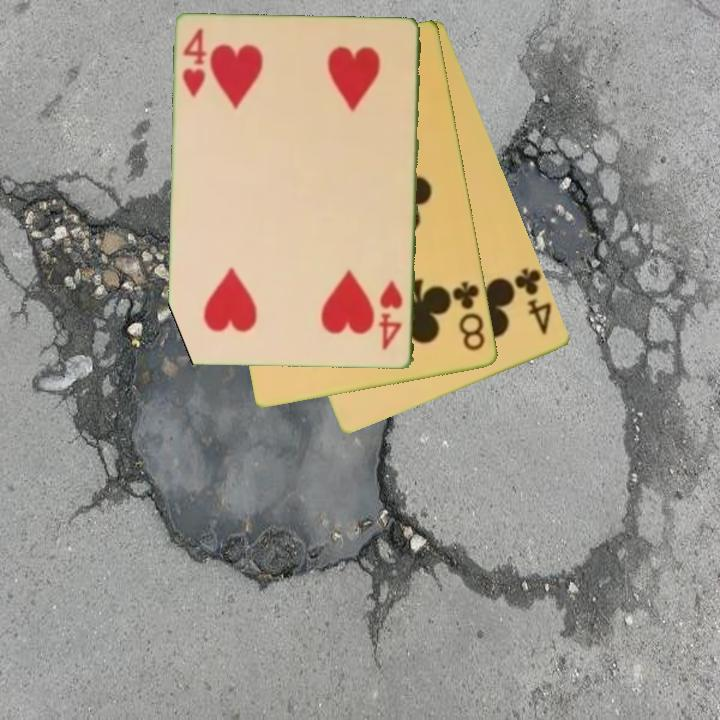4c: (511, 264, 555, 339)
4h: (179, 26, 210, 100), (377, 277, 406, 354)
8c: (449, 277, 489, 354)
